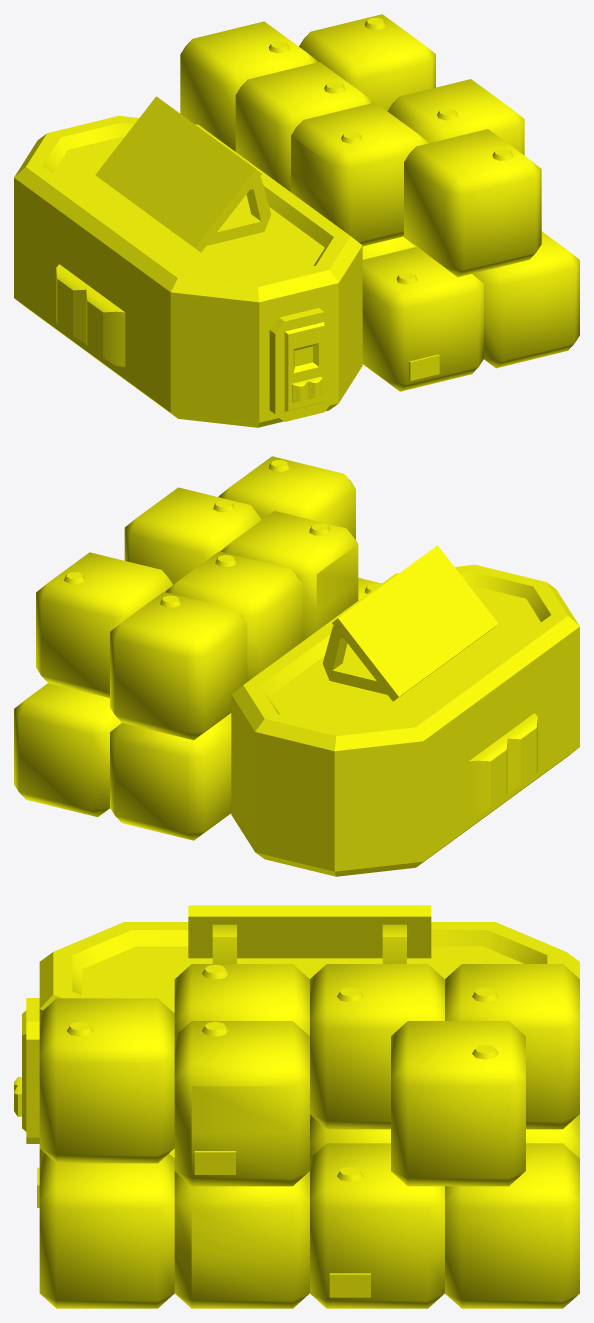
Rendered from kaykit-cargodepot-c.glb.
The picture shows the model from 3 angles, top to bottom: view 1: azimuth 30°, elevation 25°; view 2: azimuth 150°, elevation 25°; view 3: azimuth 270°, elevation 25°; orthographic projection. The views are drawn at different scales.
Parts seen in each view (by area): view 1: cargodepot_C; view 2: cargodepot_C; view 3: cargodepot_C.
Part boxes in pixels (box(x1,y1,x2,y2)): cargodepot_C: box(14, 14, 579, 427); cargodepot_C: box(14, 456, 579, 876); cargodepot_C: box(14, 905, 579, 1308).
Bounding box in the file's own units: 2.07 × 1.02 × 2.1.
